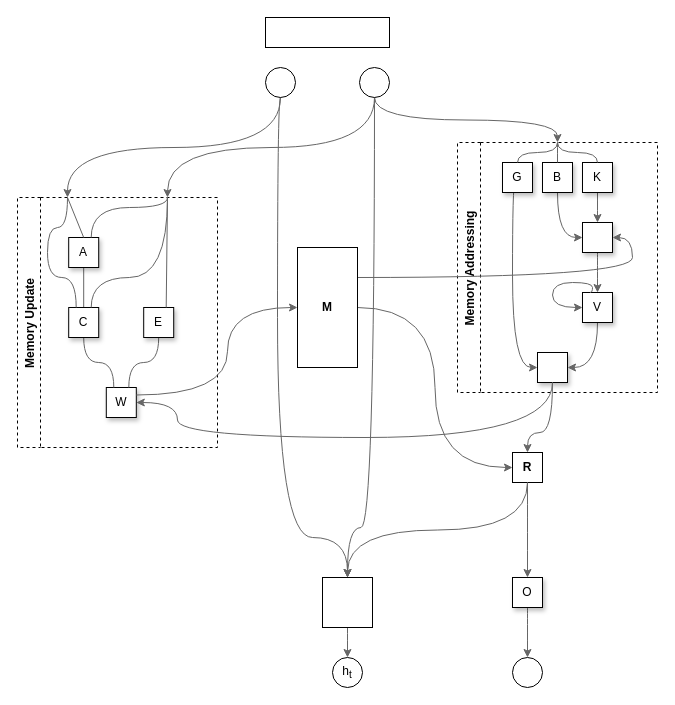
Image size: 675x705. Some labels were removed from this diagram. Each missing label, with the centre of its shape:
"D-NTM" goes at point (327, 32).
"h t-1" goes at point (374, 82).
"LRU" goes at point (553, 369).
"o t" goes at point (527, 672).
"RNN" goes at point (347, 602).
"SIM" goes at point (598, 239).
"x t" goes at point (280, 82).
